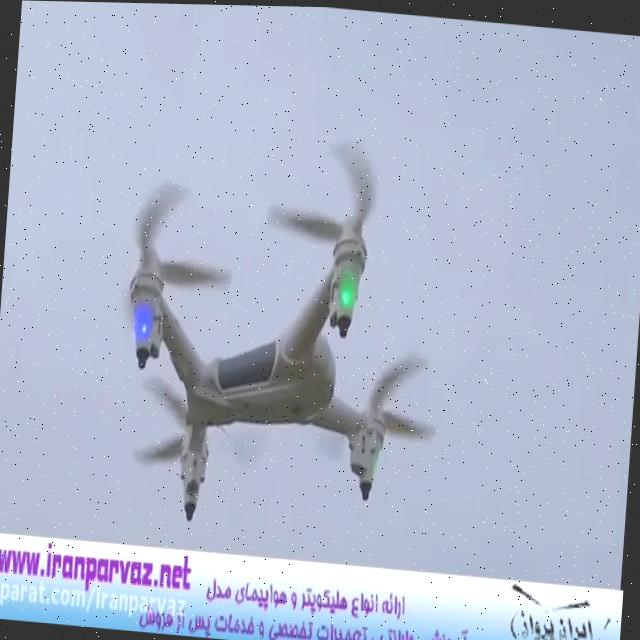drone: (94, 106, 462, 549)
